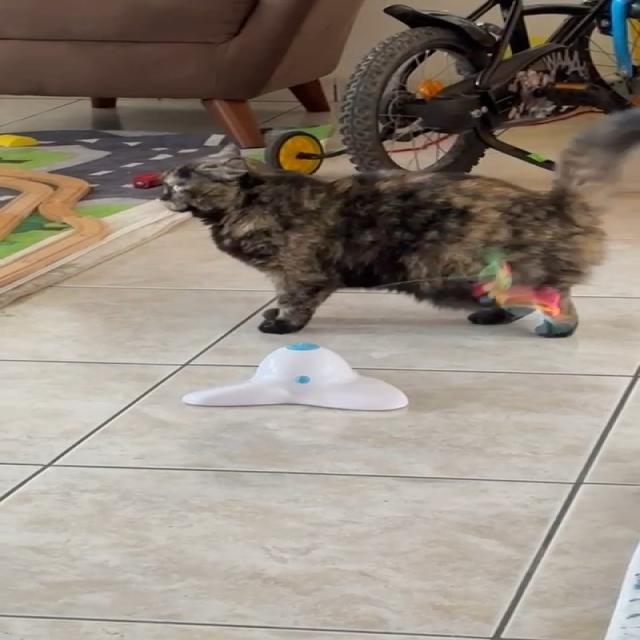authorized: (156, 106, 637, 337)
